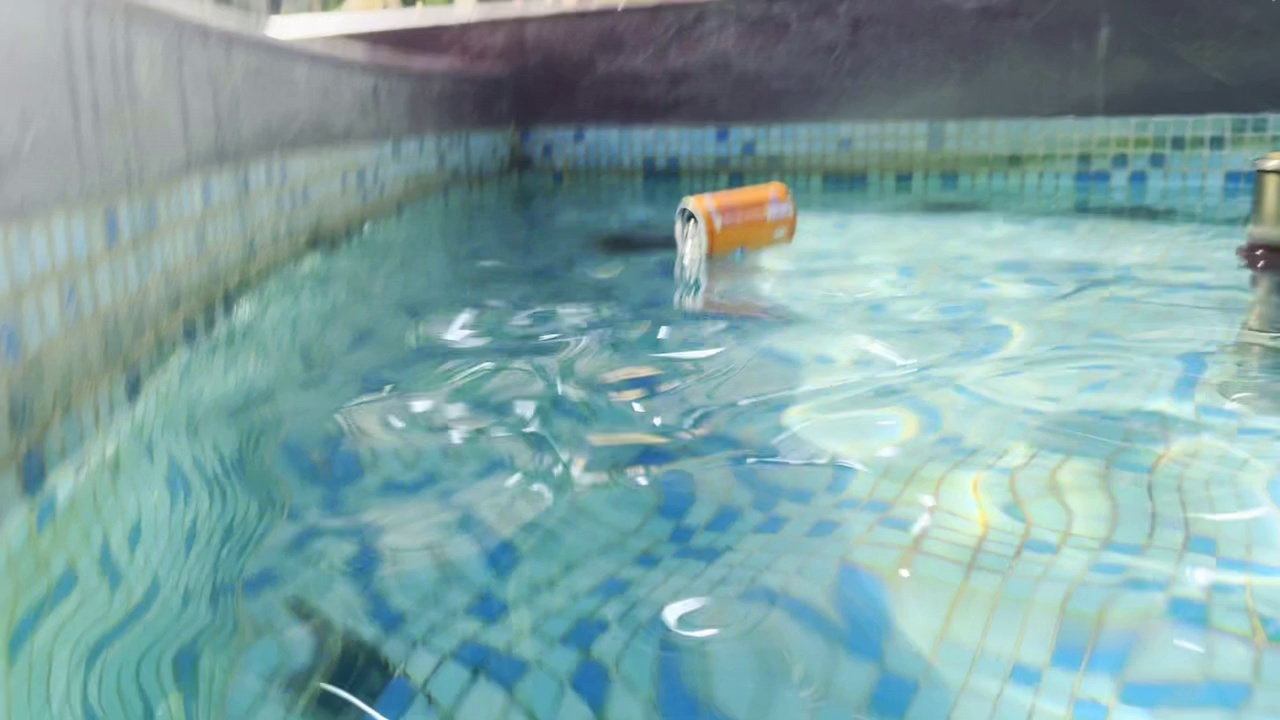debris: (667, 180, 803, 257)
